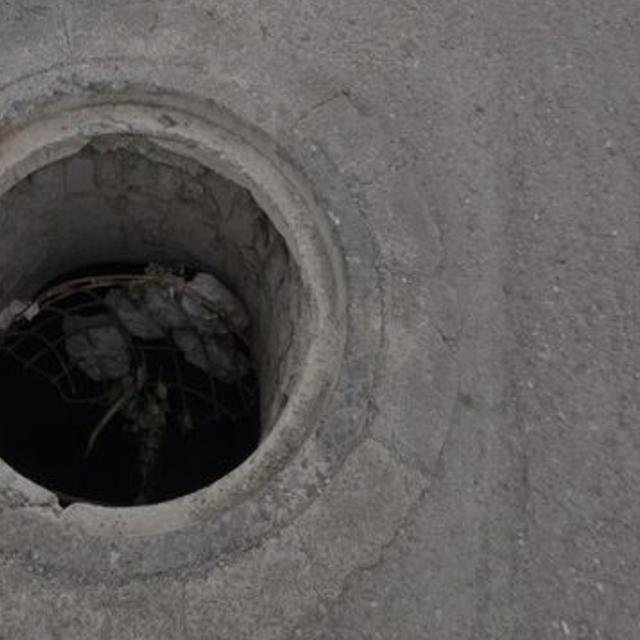lose: (0, 62, 422, 590)
